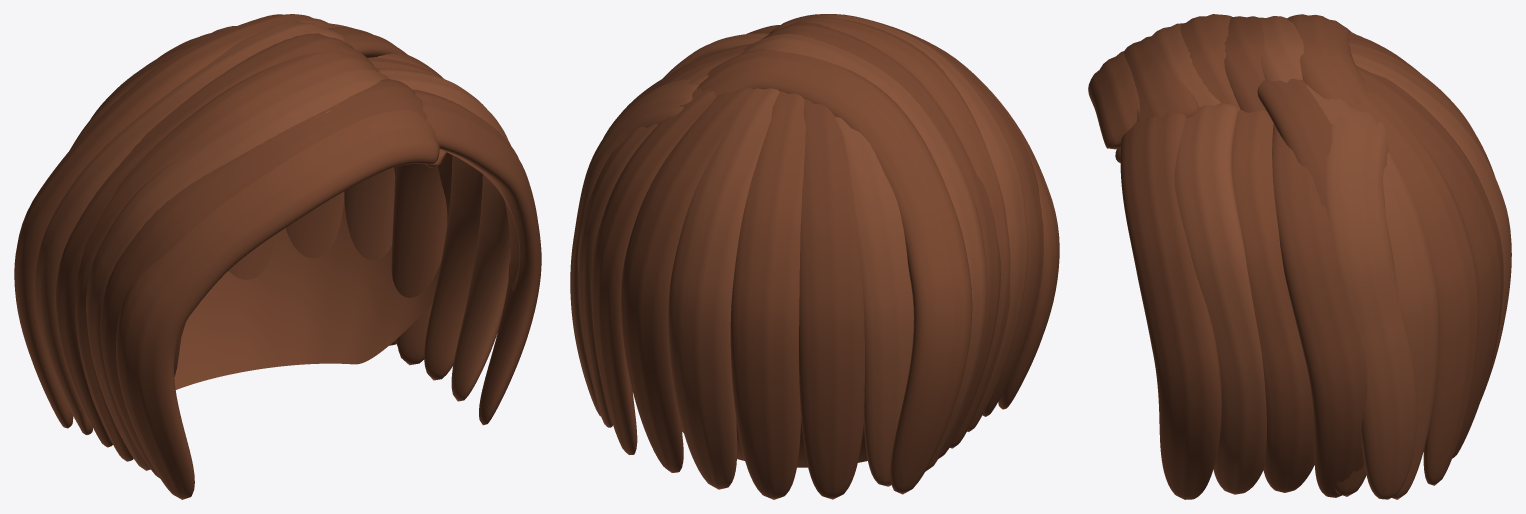
The model's file is bob-none-default.glb.
The picture shows the model from 3 angles, left to right: view 1: azimuth 30°, elevation 25°; view 2: azimuth 150°, elevation 25°; view 3: azimuth 270°, elevation 25°; orthographic projection. The views are drawn at different scales.
Visible parts, largest first — view 1: 226 hair / Hair / sculpted 0.004, 226 hair / Hair / sculpted 1.005, 226 hair / Hair / sculpted 2.004, 226 hair / Hair / sculpted 1; view 2: 226 hair / Hair / sculpted 0.004, 226 hair / Hair / sculpted 2.004, 226 hair / Hair / sculpted 1.005, 226 hair / Hair / sculpted 1; view 3: 226 hair / Hair / sculpted 1.005, 226 hair / Hair / sculpted 2.004, 226 hair / Hair / sculpted 0.004.
Part boxes in pixels (x1,y1,x2,y2): 226 hair / Hair / sculpted 0.004: (14,14,482,499); 226 hair / Hair / sculpted 1.005: (56,27,541,478); 226 hair / Hair / sculpted 2.004: (35,21,510,470); 226 hair / Hair / sculpted 1: (174,151,520,389); 226 hair / Hair / sculpted 0.004: (591,17,1059,499); 226 hair / Hair / sculpted 2.004: (570,14,1028,489); 226 hair / Hair / sculpted 1.005: (603,14,1043,499); 226 hair / Hair / sculpted 1: (681,420,867,467); 226 hair / Hair / sculpted 1.005: (1120,16,1503,499); 226 hair / Hair / sculpted 2.004: (1146,16,1511,499); 226 hair / Hair / sculpted 0.004: (1088,14,1495,492).
Bounding box in the file's own units: 0.8252 × 0.7463 × 0.7108.
